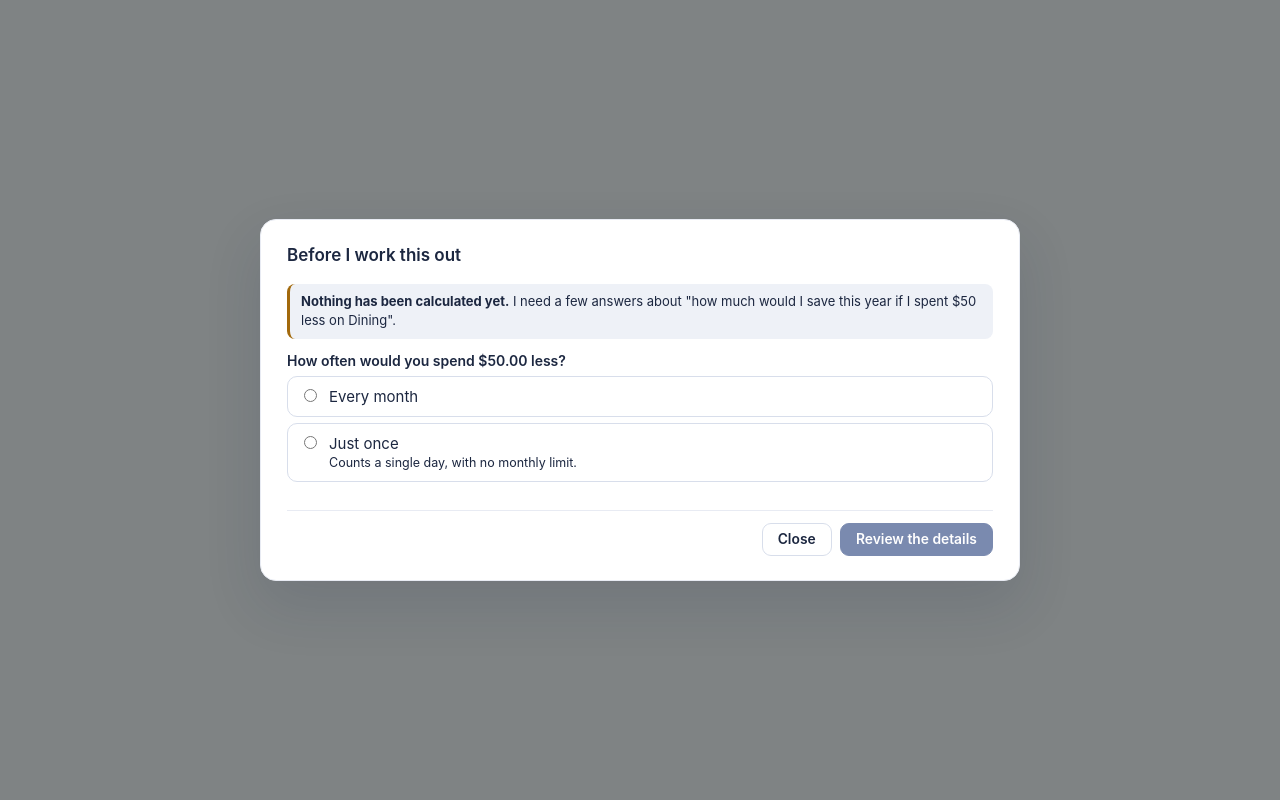
Test: the choices screen › on the first of the month there is no part month to ask about
Click the radio button labelled "Every month" at x=310, y=396, box [304,389,317,402]
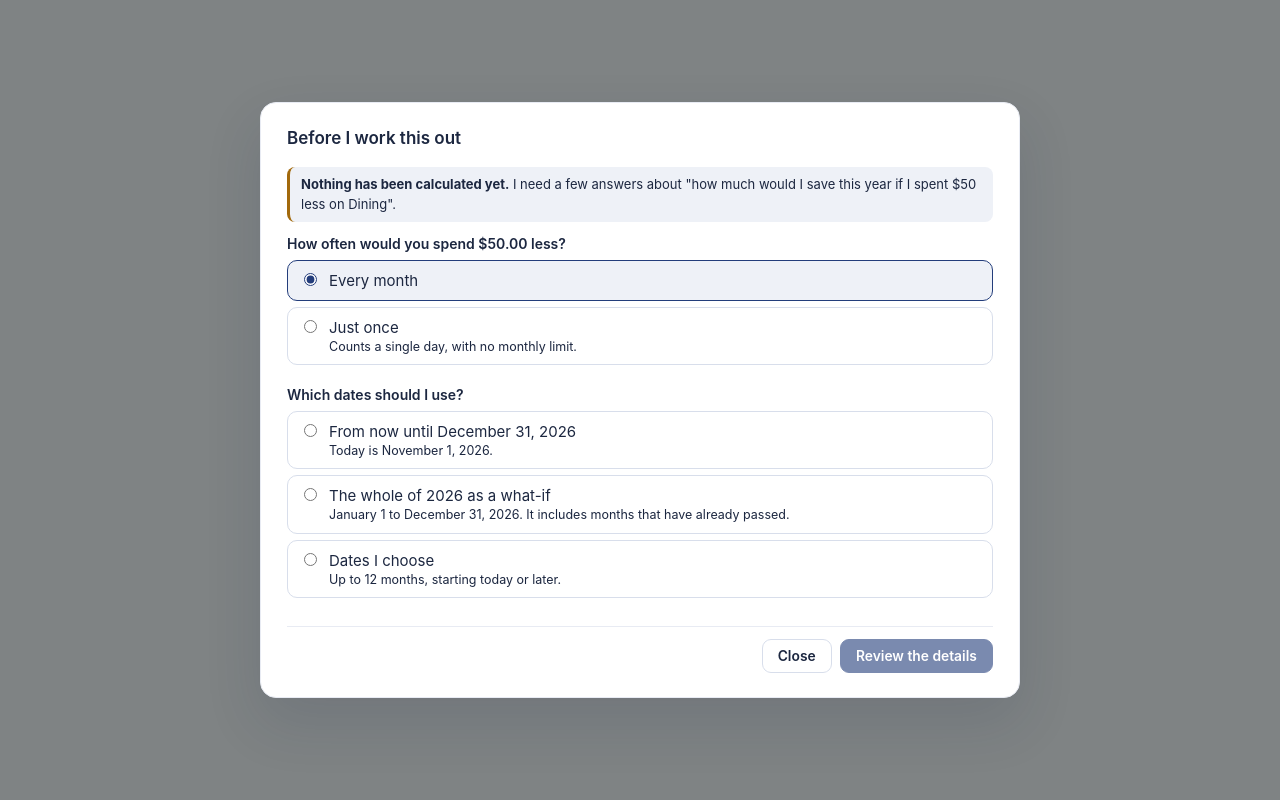
Click the radio button labelled "From now until December 31, 2026 Today is November 1, 2026." at x=310, y=430, box [304,424,317,437]
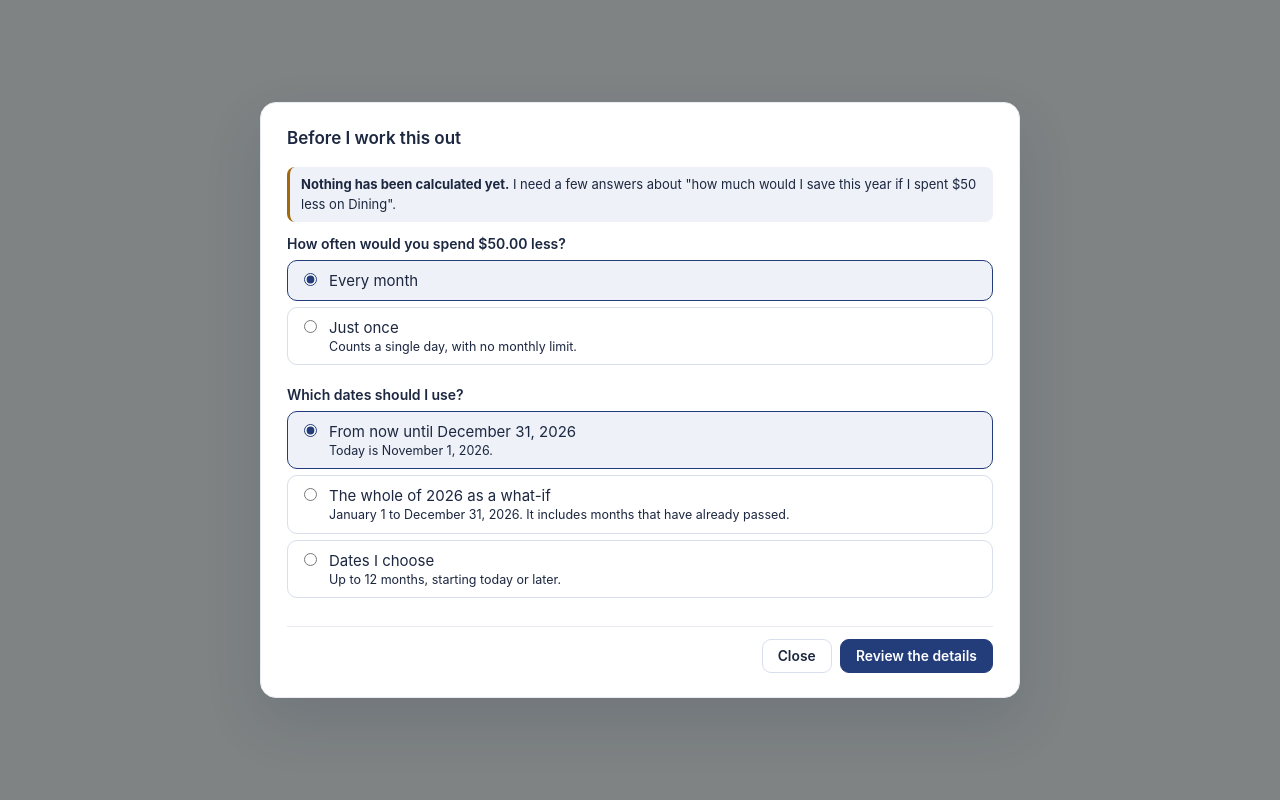
Now the button "Review the details" is enabled, box [840,639,993,673]
